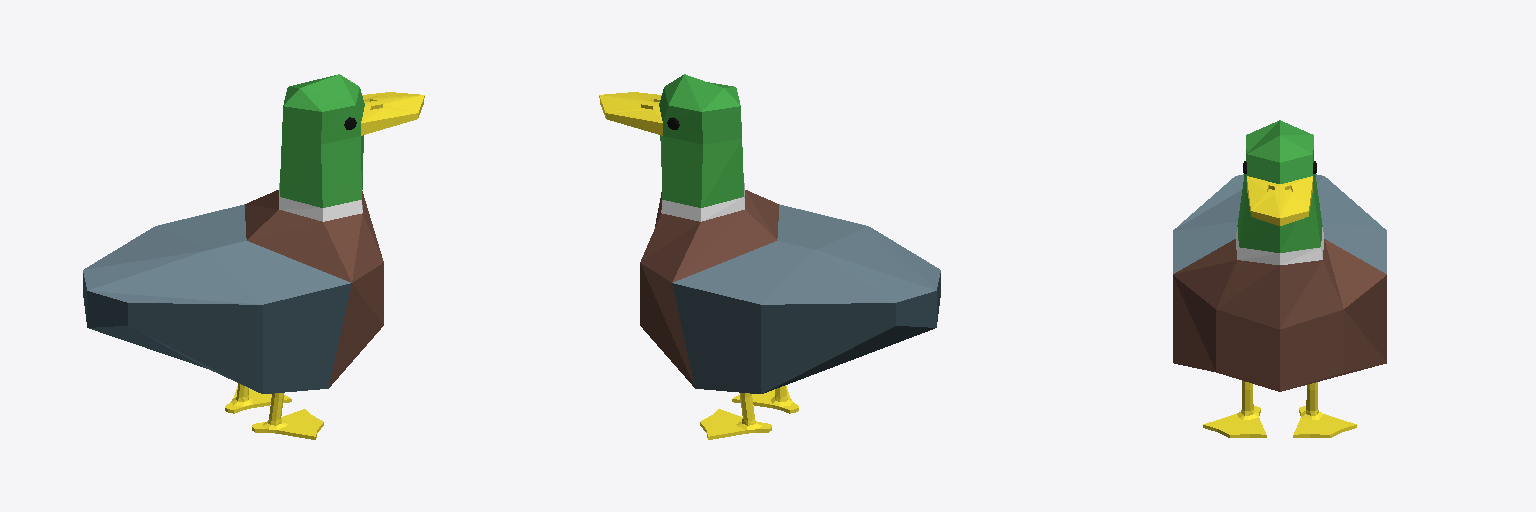
File: Duck_01.obj
3 renders of one model, left to right at view 1: azimuth 30°, elevation 25°; view 2: azimuth 150°, elevation 25°; view 3: azimuth 270°, elevation 25°, orthographic.
Parts seen in each view (by area): view 1: Duck_01_Cube.045; view 2: Duck_01_Cube.045; view 3: Duck_01_Cube.045.
Boxes of the visible parts, box(x1,y1,x2,y2) form: Duck_01_Cube.045: box(83, 74, 424, 439); Duck_01_Cube.045: box(599, 74, 940, 439); Duck_01_Cube.045: box(1173, 120, 1386, 437).
Size of the model in its own units: 10.76 by 9.84 by 5.93.